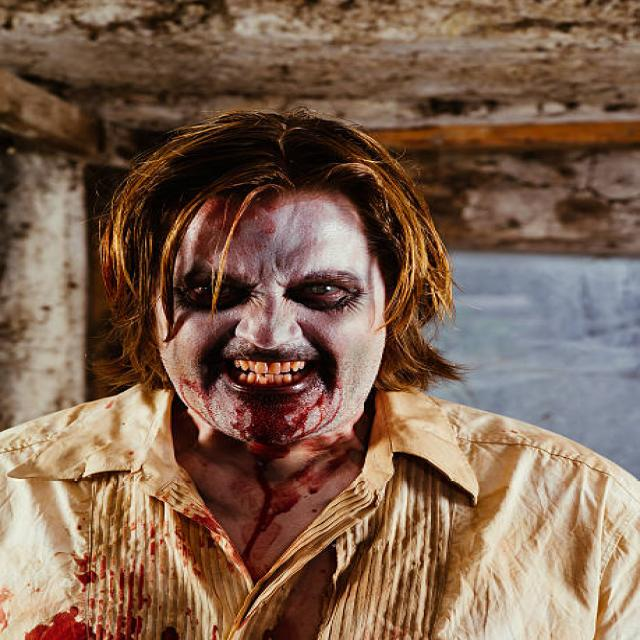Zombie: (167, 200, 358, 445)
